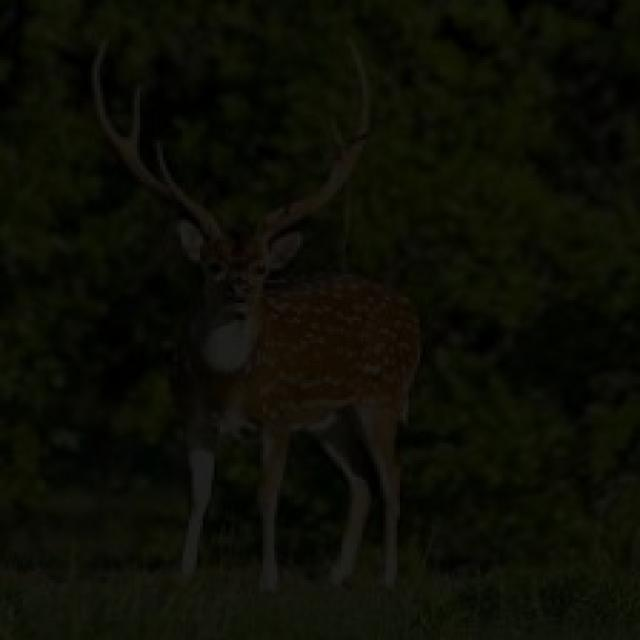bear: (128, 101, 479, 557)
